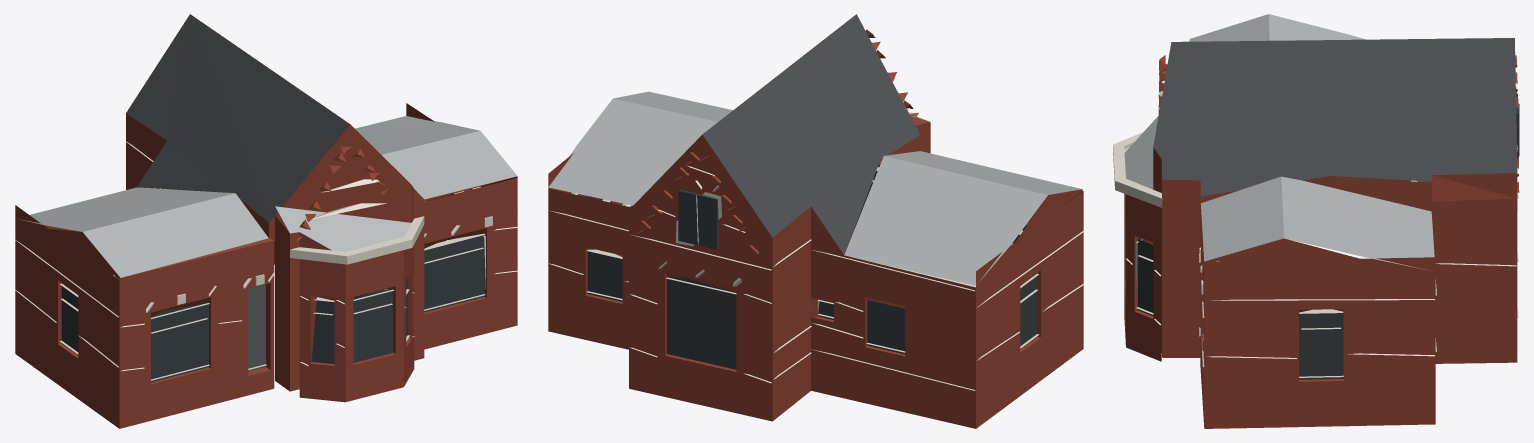
The model's file is westergas-bazenwoning-west.lod1.glb.
3 renders of one model, left to right at view 1: azimuth 30°, elevation 25°; view 2: azimuth 150°, elevation 25°; view 3: azimuth 270°, elevation 25°, orthographic. The views are drawn at different scales.
Visible parts, largest first — view 1: westergas-bazenwoning-west; view 2: westergas-bazenwoning-west; view 3: westergas-bazenwoning-west.
Boxes of the visible parts, x1,y1,x2,y2 form: westergas-bazenwoning-west: [15, 14, 518, 428]; westergas-bazenwoning-west: [548, 14, 1084, 428]; westergas-bazenwoning-west: [1113, 14, 1519, 428].
Bounding box in the file's own units: 15.37 × 9.2 × 11.8.
